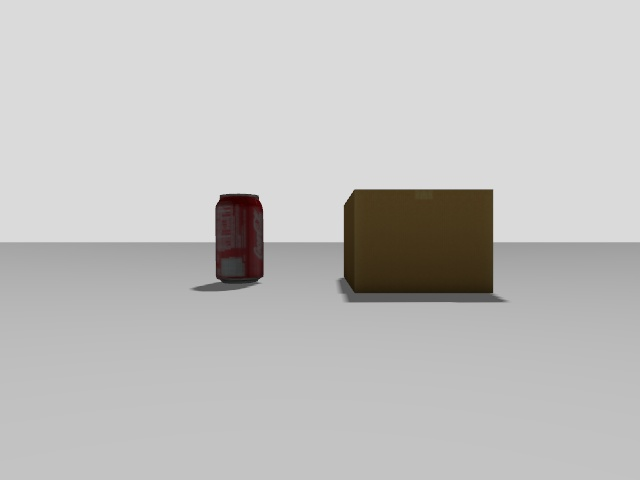canette: (216, 194, 264, 283)
carton: (344, 189, 493, 293)
